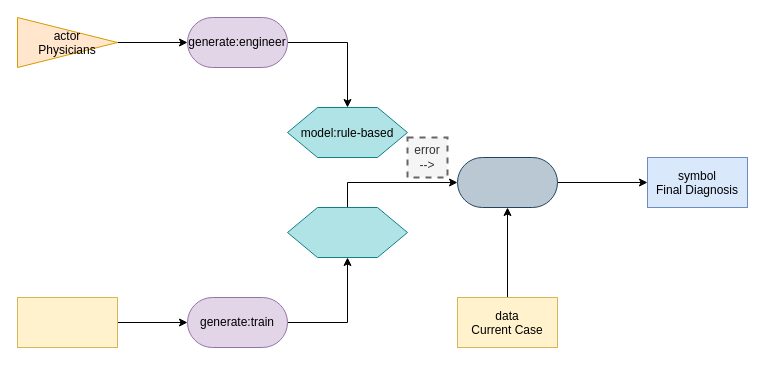
The diagram is 765 pixels wide and 365 high, and some of its shapes have lost their labels. The centre of each missing label's shape, as x and y in pixels:
data Previous Cases: the point at 67,322
infer:deduce: the point at 507,182
model:case-based: the point at 347,232
